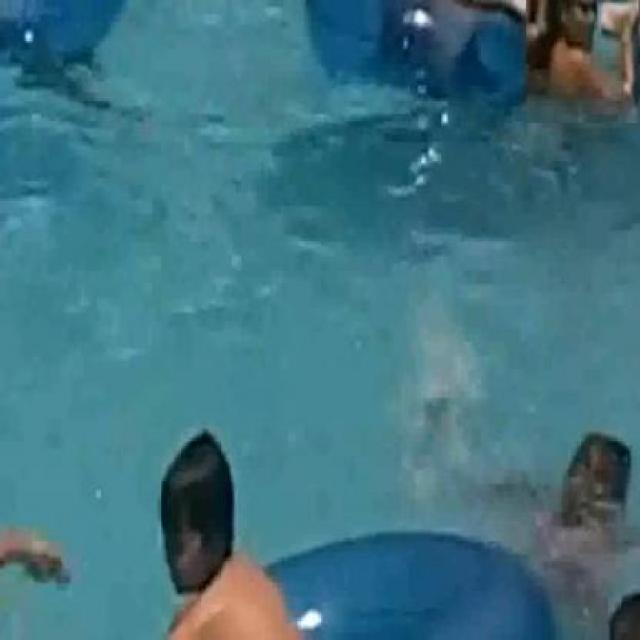drowning: (426, 357, 639, 595)
swimming: (133, 404, 279, 639), (526, 0, 640, 125)
